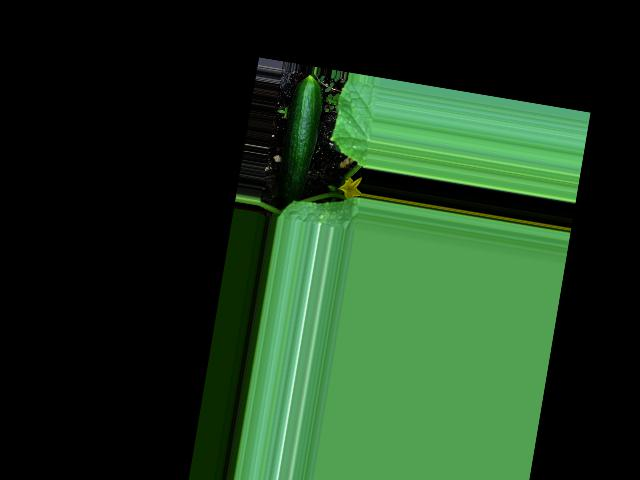cucumber: (272, 71, 327, 209)
